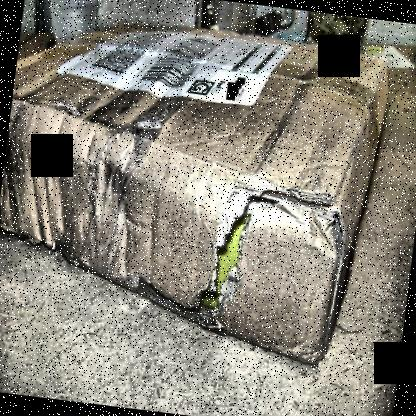defect parcel: (99, 148, 367, 349)
